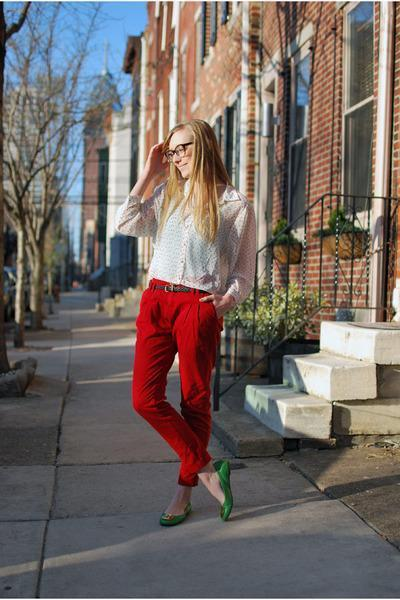pants: (132, 278, 223, 486)
shirt: (115, 180, 264, 305), (156, 282, 195, 292)
shoe: (218, 468, 243, 521)
